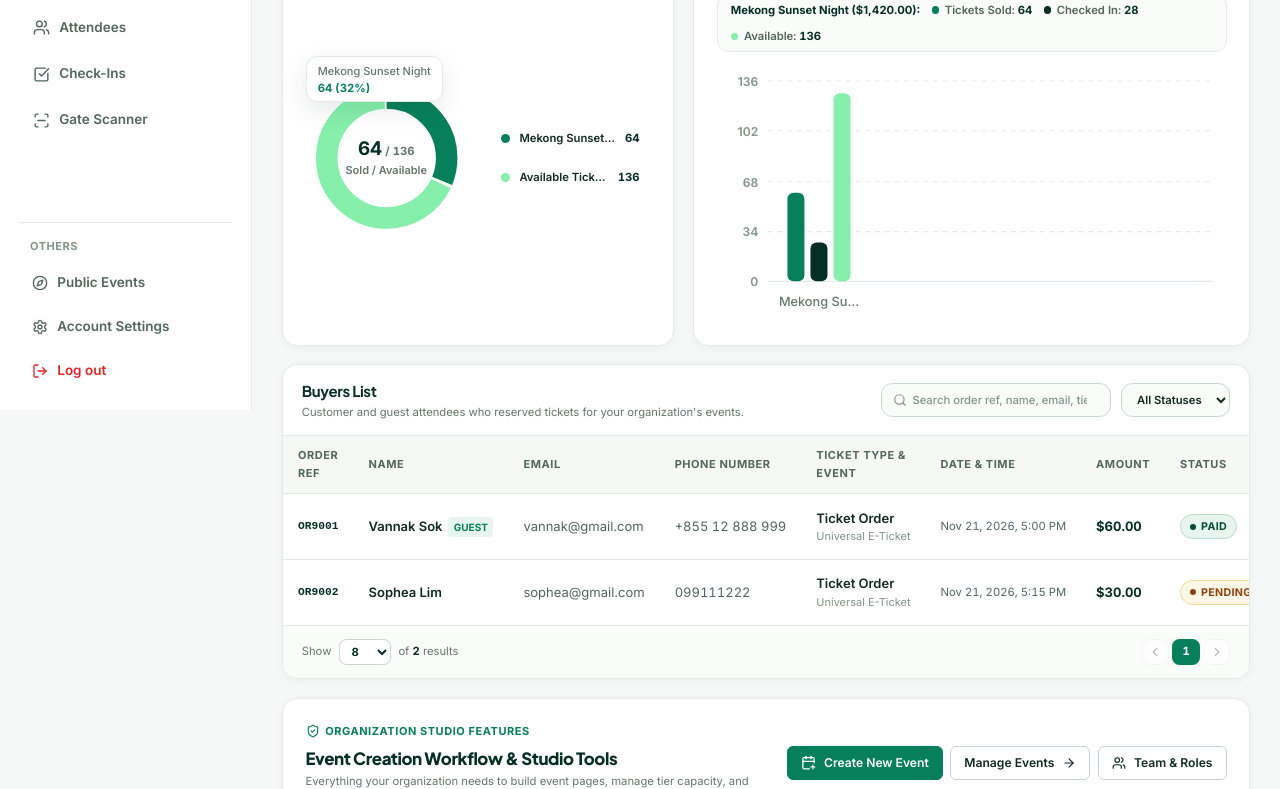
Test case: Frontend Components & Role-Based UI › renders unified SaaS OrganizerDashboardPage with organization metrics, charts, and searchable Buyers List
(page scrolled)
Expected: the picture named "Total Ticket Breakdown" is shown, [288, 77, 484, 239]
Expected: the picture named "Ticket Sales Analytics" is shown, [717, 64, 1226, 322]
Type "Vannak" into the search field named "Search Buyers List" at (996, 400), box [881, 383, 1111, 417]
(page scrolled)
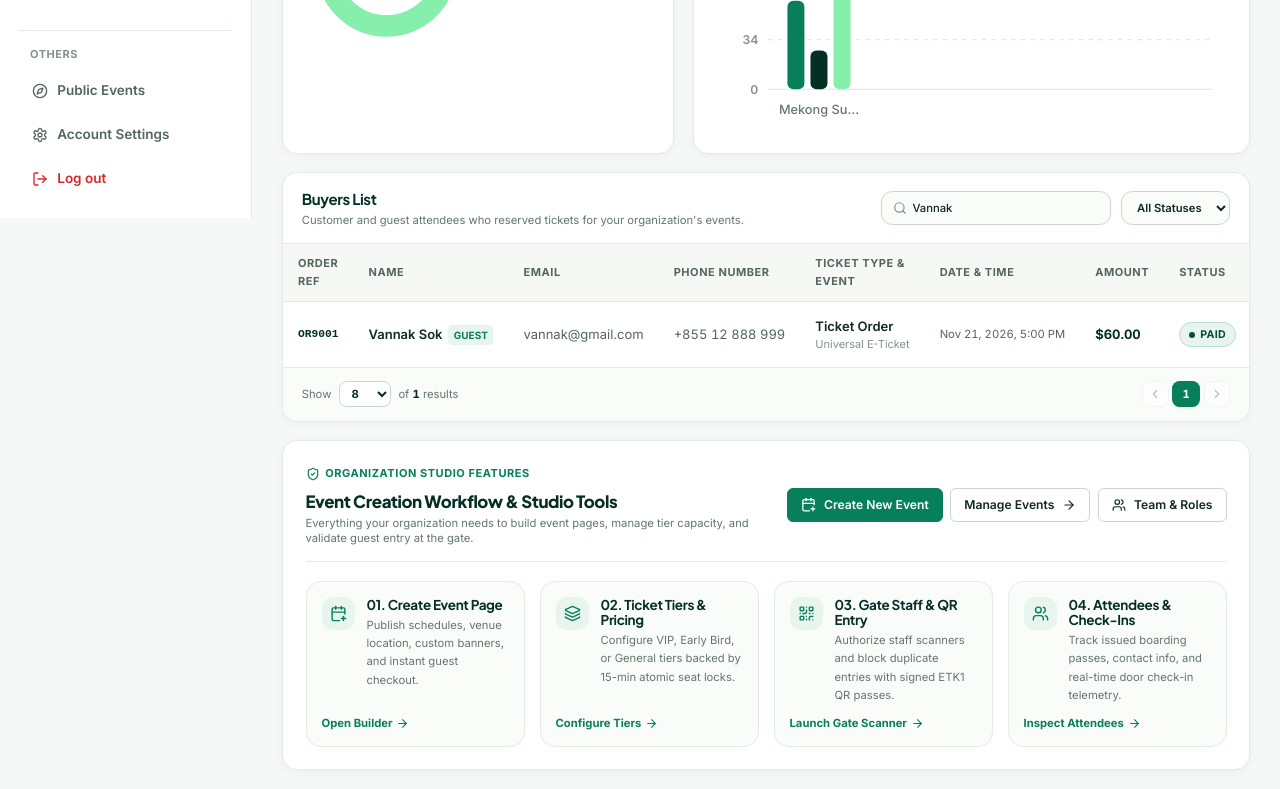
Expected: the text "Vannak Sok" is shown, [368, 324, 442, 345]
Now the text "Sophea Lim" is gone
